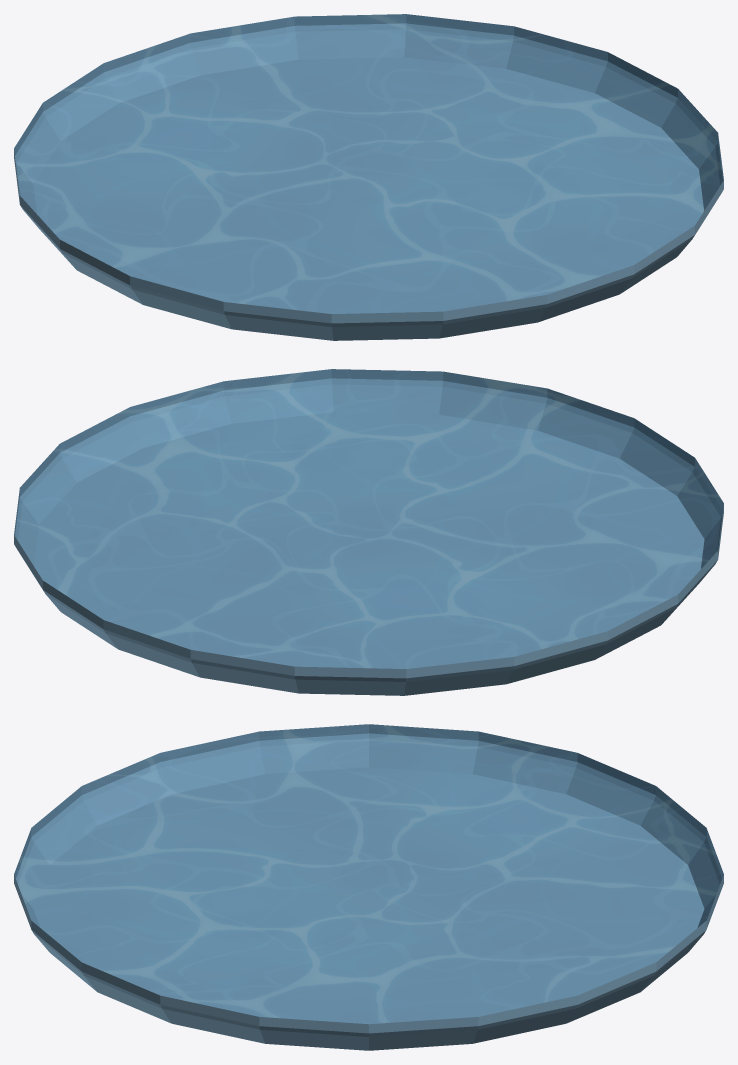
The model's file is waterr.fbx.
The picture shows the model from 3 angles, top to bottom: view 1: azimuth 30°, elevation 25°; view 2: azimuth 150°, elevation 25°; view 3: azimuth 270°, elevation 25°; orthographic projection.
Visible parts, largest first — view 1: pDisc1; view 2: pDisc1; view 3: pDisc1.
Part boxes in pixels (x1,y1,x2,y2): pDisc1: (14, 14, 723, 340); pDisc1: (14, 369, 723, 695); pDisc1: (14, 724, 723, 1050).
Bounding box in the file's own units: 185 × 9.99 × 185.
